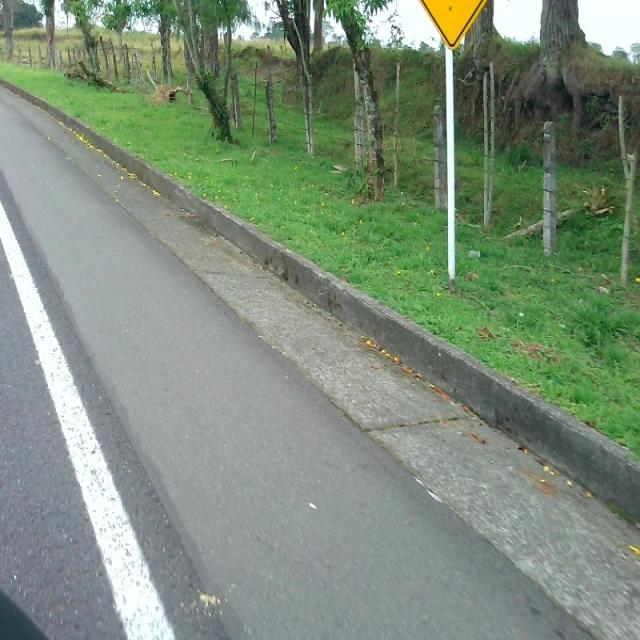DITCH: (6, 41, 638, 638), (1, 77, 638, 638), (1, 161, 638, 638)
